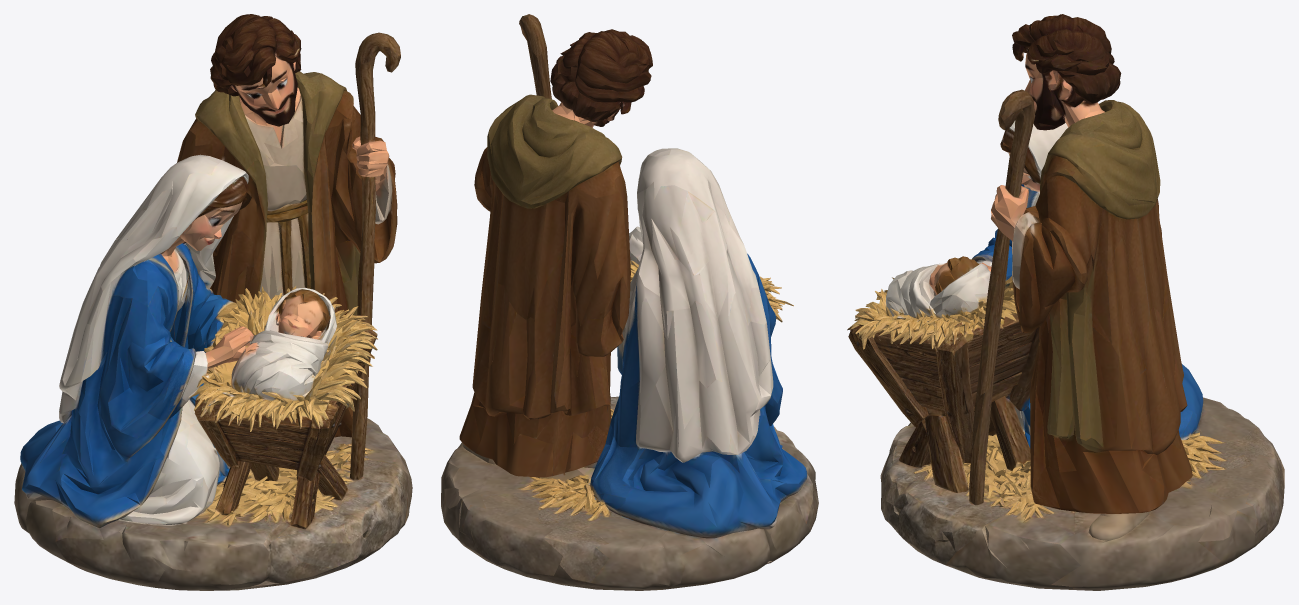
Rendered from family.glb.
3 renders of one model, left to right at view 1: azimuth 30°, elevation 25°; view 2: azimuth 150°, elevation 25°; view 3: azimuth 270°, elevation 25°, orthographic. The views are drawn at different scales.
Visible parts, largest first — view 1: output_unwrapped; view 2: output_unwrapped; view 3: output_unwrapped.
Part boxes in pixels (x1,y1,x2,y2): output_unwrapped: (14, 14, 412, 590); output_unwrapped: (441, 14, 818, 590); output_unwrapped: (847, 14, 1284, 590).
Size of the model in its own units: 1.41 by 1.9 by 1.48.
1 material, 1 textured.
